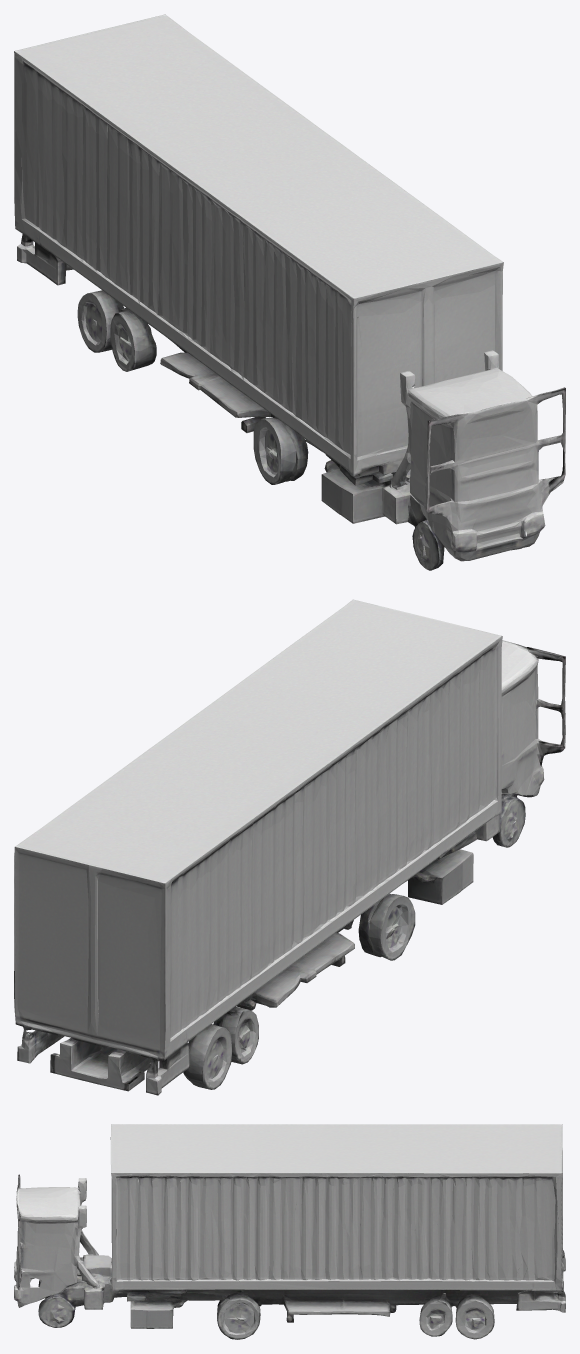
The model's file is trailer.glb.
The picture shows the model from 3 angles, top to bottom: view 1: azimuth 30°, elevation 25°; view 2: azimuth 150°, elevation 25°; view 3: azimuth 270°, elevation 25°; orthographic projection. The views are drawn at different scales.
Visible parts, largest first — view 1: world; view 2: world; view 3: world.
Part boxes in pixels (x1,y1,x2,y2): world: [14, 14, 565, 570]; world: [14, 599, 565, 1095]; world: [14, 1124, 565, 1339].
Bounding box in the file's own units: 0.2122 × 0.3414 × 1.
1 material, 1 textured.
